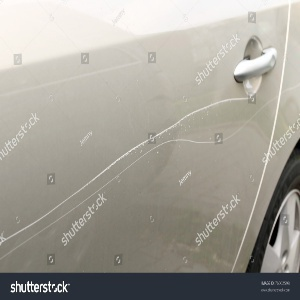door_scratch: (106, 94, 245, 171)
